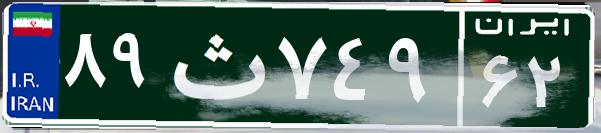2: (525, 38, 570, 115)
4: (330, 28, 385, 110)
6: (475, 38, 525, 113)
7: (273, 28, 330, 110)
8: (57, 26, 110, 107)
9: (385, 28, 445, 110), (110, 28, 158, 105)
ث: (158, 15, 273, 115)
